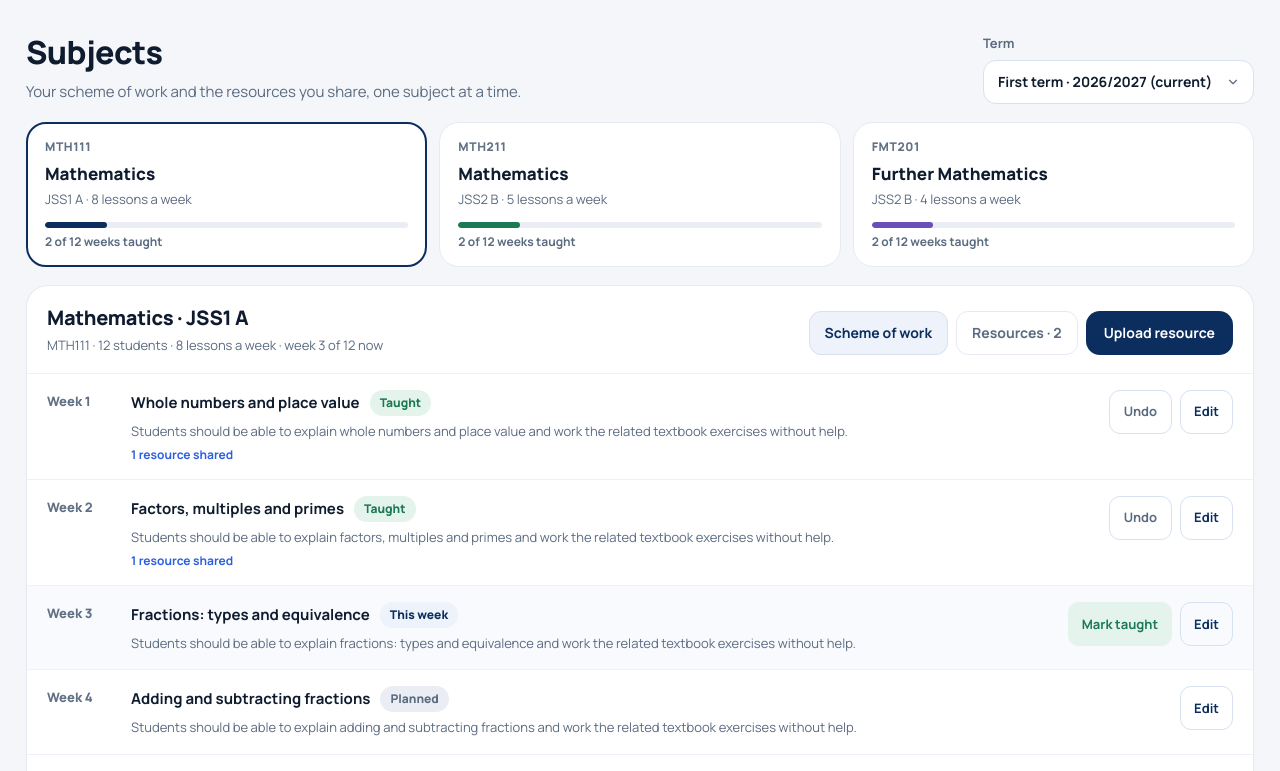
Test: SubjectsScreen › switching the term refetches the cards and the scheme for that term
Select "Third term · 2025/2026" in the dropdown labelled "Term". click: (1118, 82)
box: [983,60,1254,104]
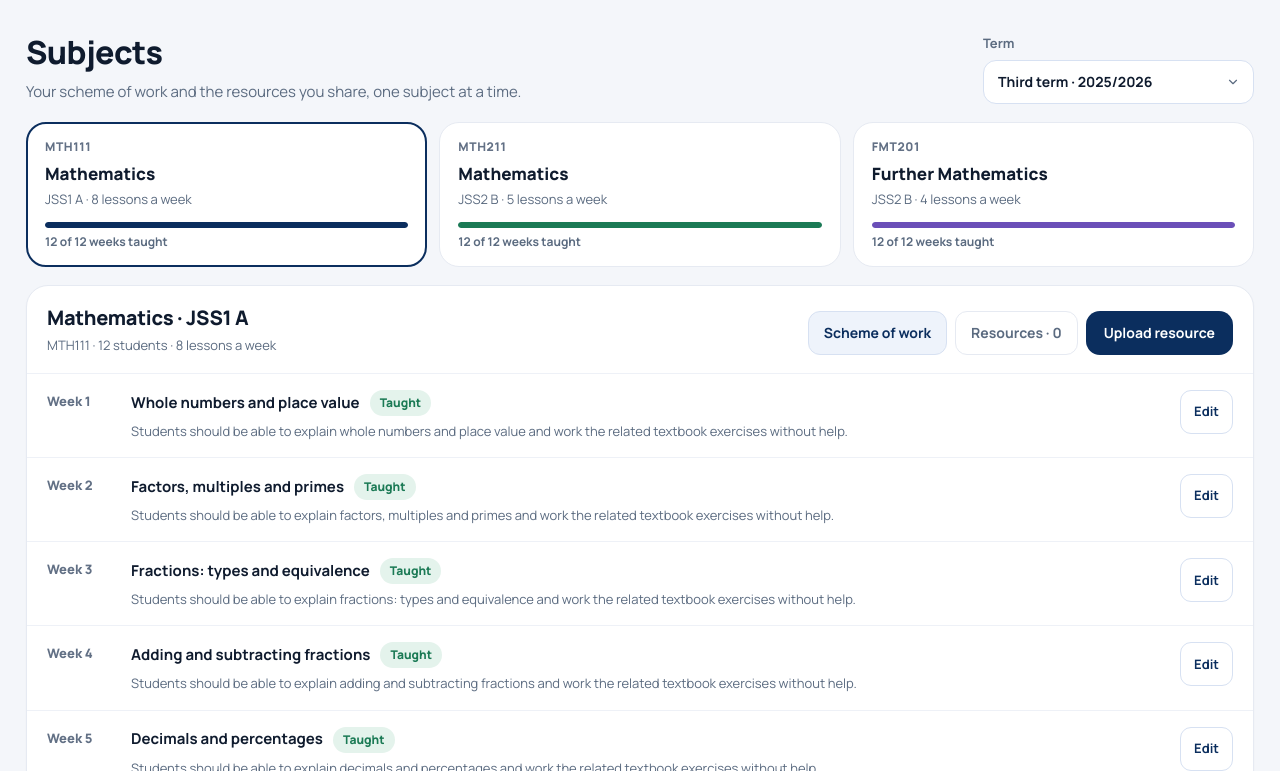
Expected: the text "MTH111 · 12 students · 8 lessons a week" is shown, [47,336,276,355]
Expected: the button "Undo" is gone
